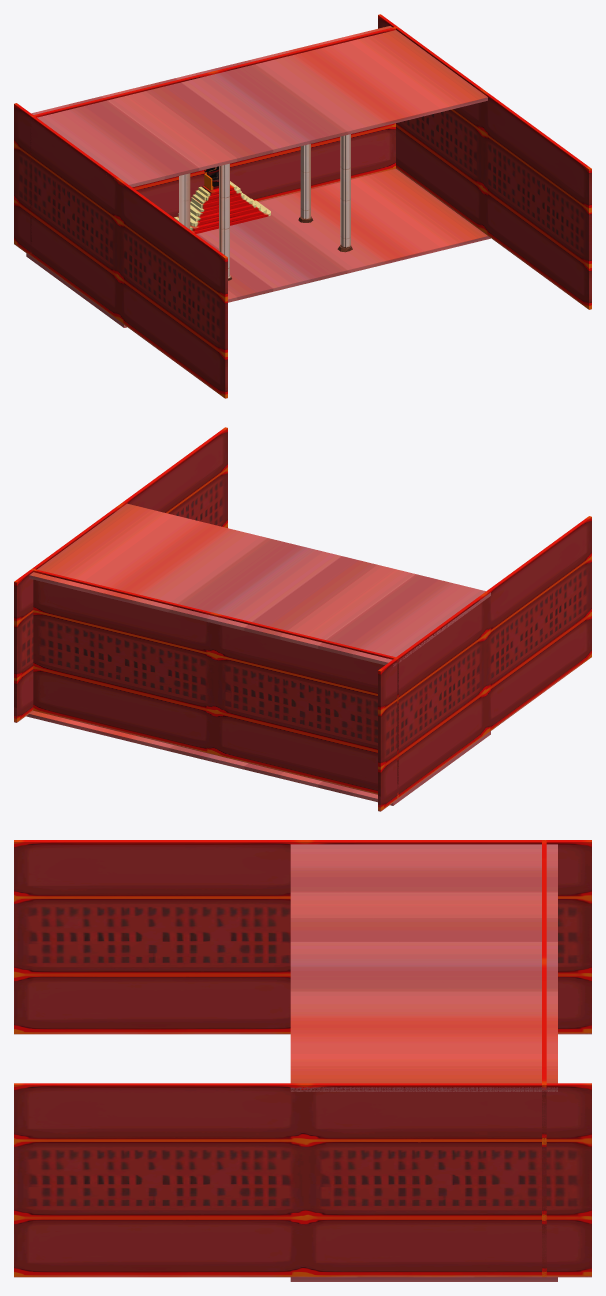
File: Palace.glb
The picture shows the model from 3 angles, top to bottom: view 1: azimuth 30°, elevation 25°; view 2: azimuth 150°, elevation 25°; view 3: azimuth 270°, elevation 25°; orthographic projection. The views are drawn at different scales.
Visible parts, largest first — view 1: Palace; view 2: Palace; view 3: Palace.
Boxes of the visible parts, x1,y1,x2,y2 form: Palace: (14,14,591,398); Palace: (14,427,591,811); Palace: (14,840,591,1281).
Bounding box in the file's own units: 79.62 × 29.82 × 79.4.
1 material, 1 textured.
